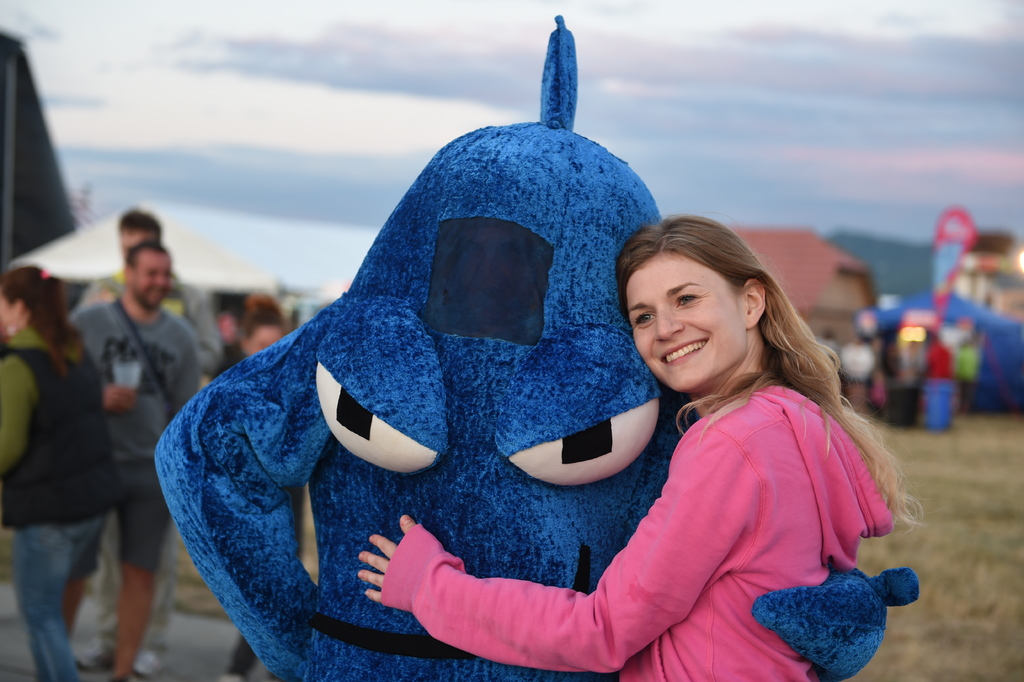Human_hand: (360, 547, 475, 617), (103, 380, 139, 415)
